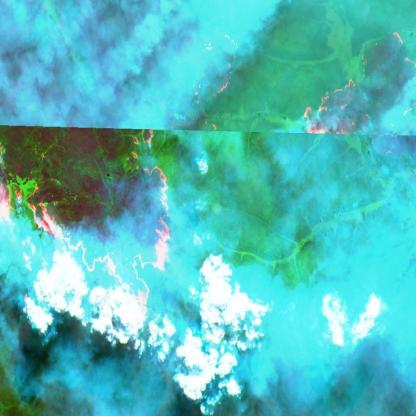fire: (0, 112, 178, 328), (297, 30, 416, 141)
